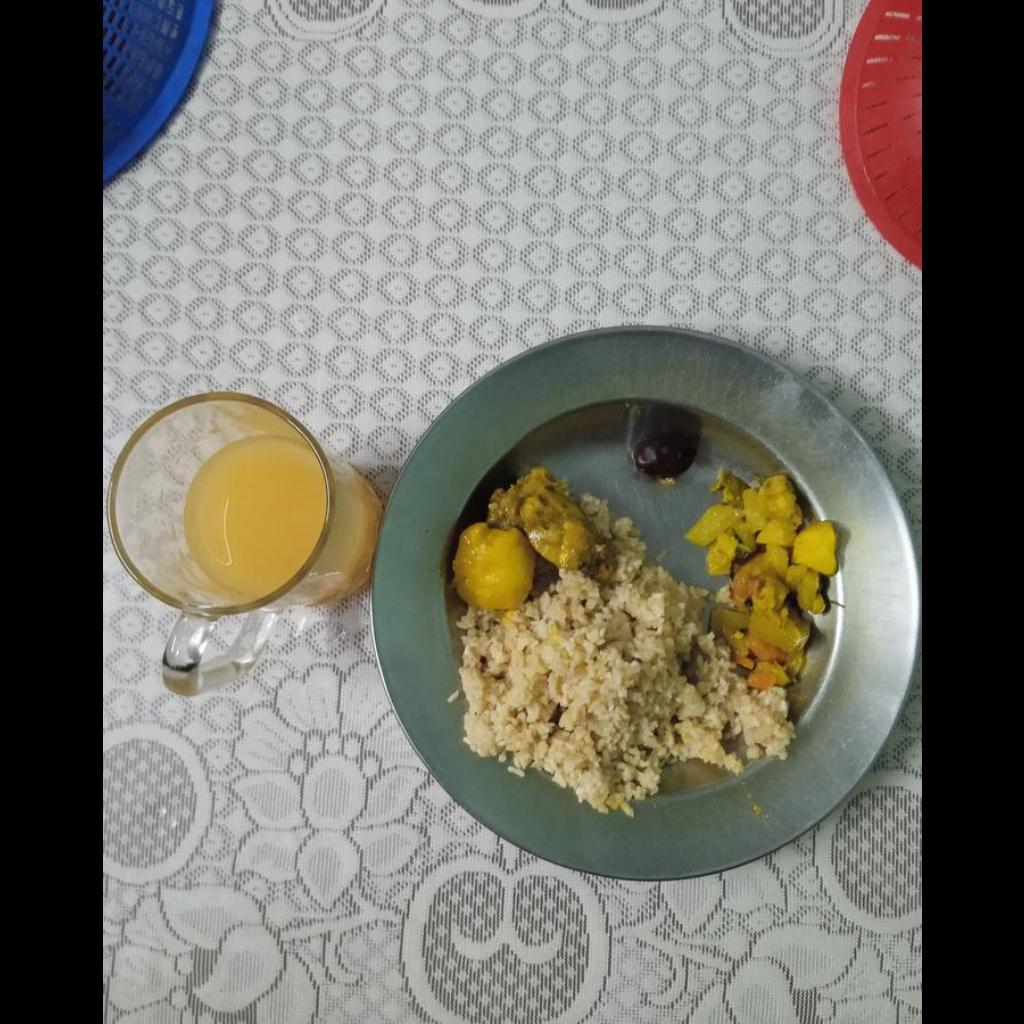chicken: (487, 468, 603, 569)
dates: (623, 400, 699, 480)
juice: (178, 437, 323, 589)
potato: (451, 522, 534, 609)
rice: (459, 496, 791, 814)
vegetable: (686, 471, 837, 685)
